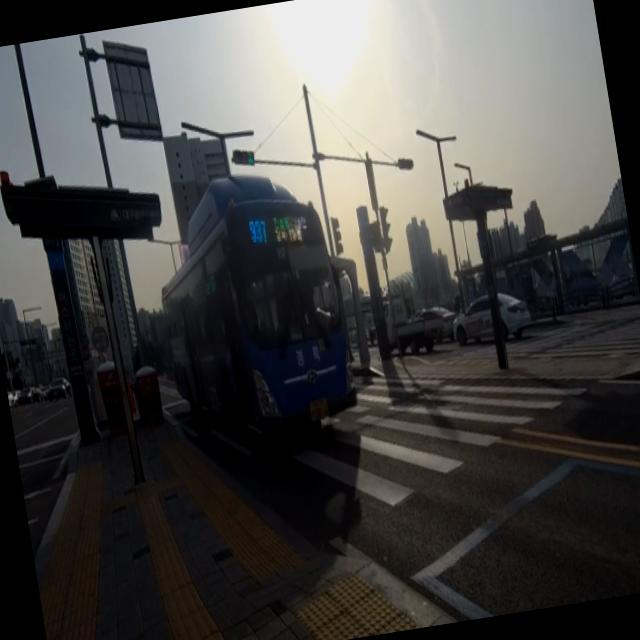bus-number: (247, 215, 270, 246)
